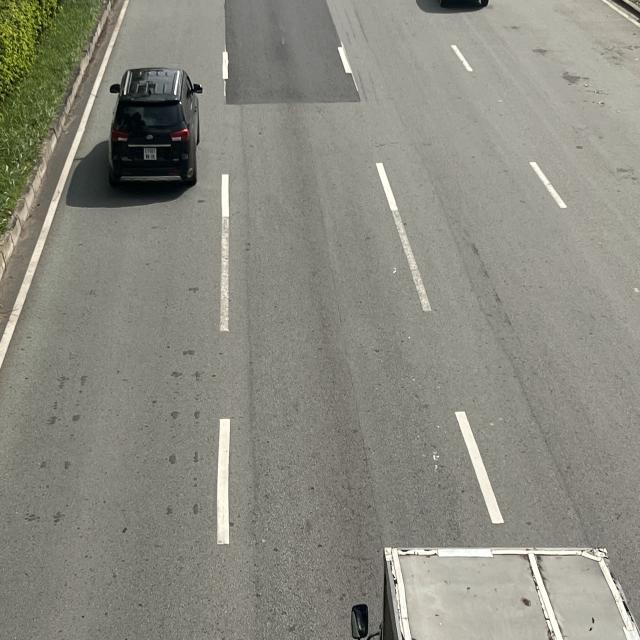car: (109, 66, 203, 188)
